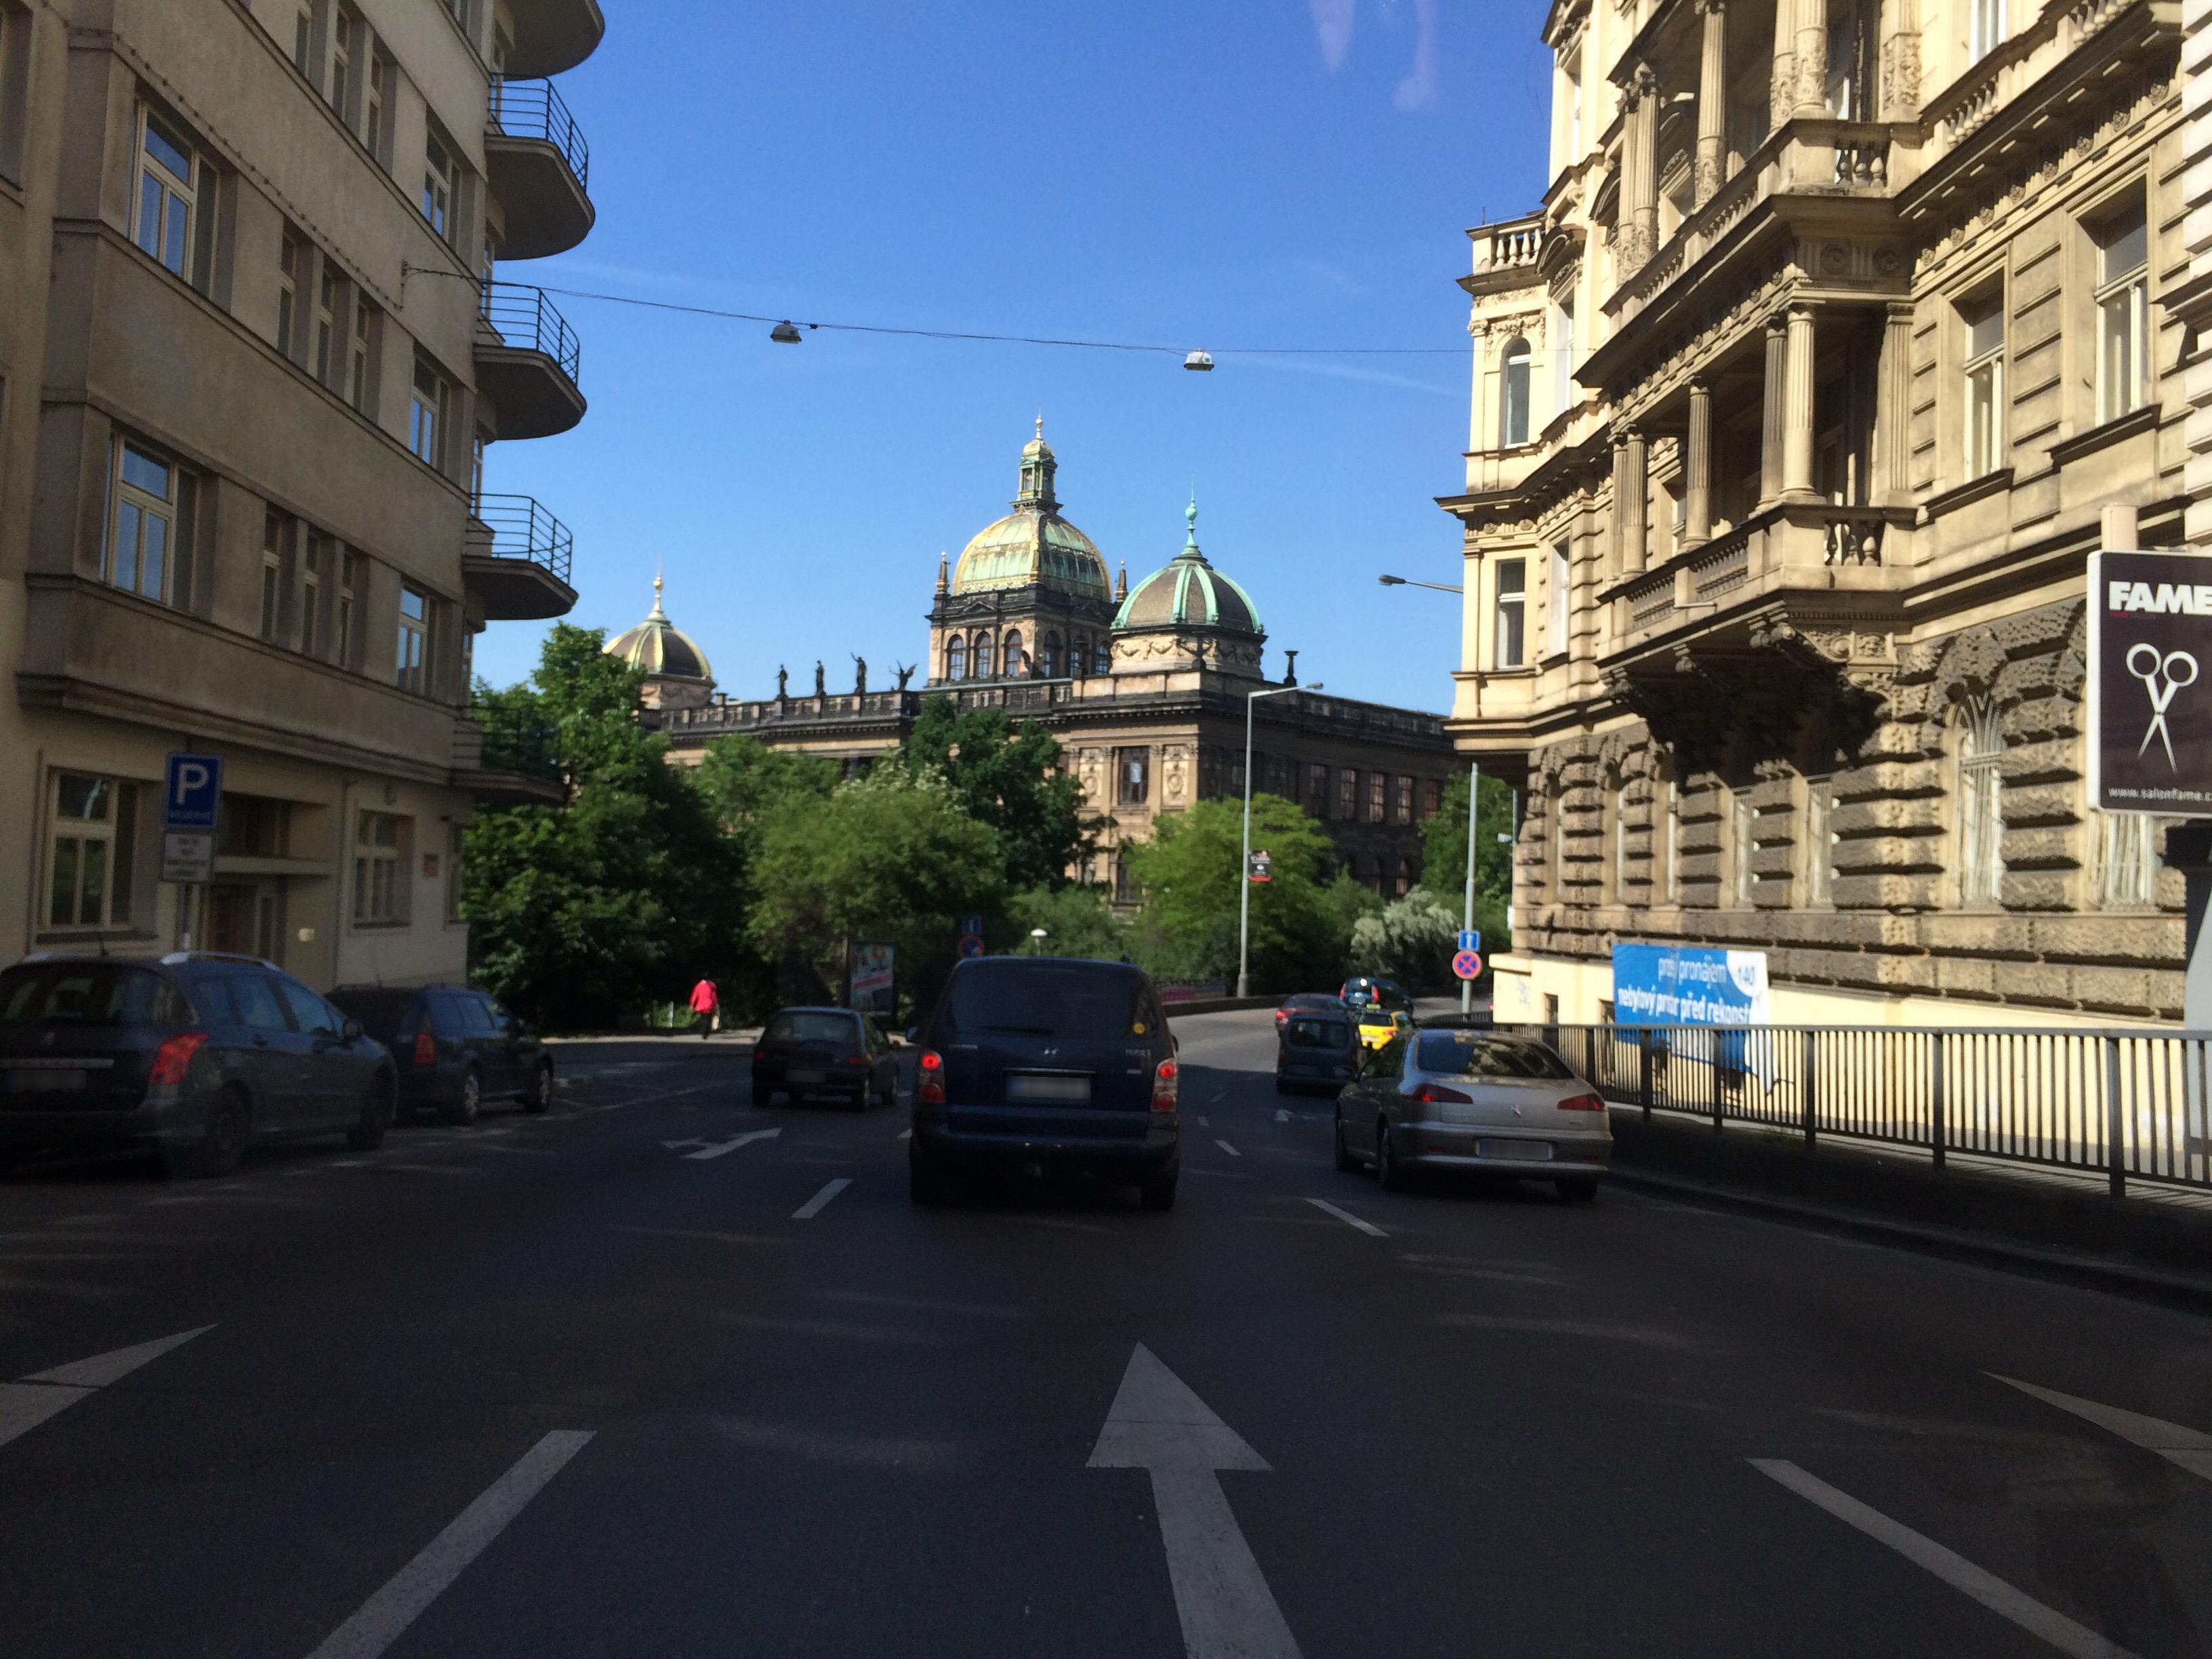vinyl banner: (1609, 911, 1782, 1100)
